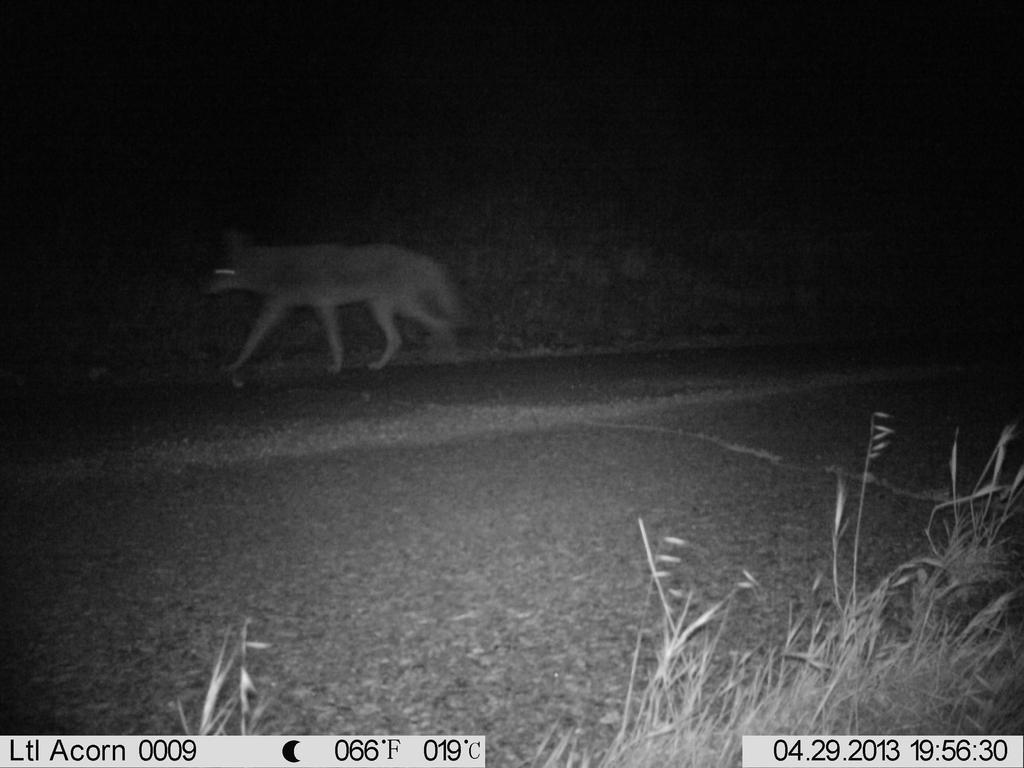coyote: (196, 222, 473, 379)
